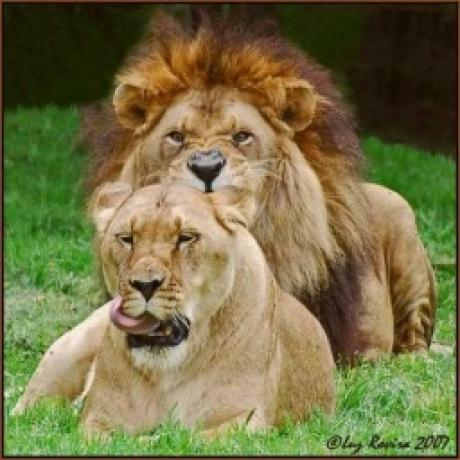Lion: (81, 6, 438, 352), (11, 182, 340, 435)
